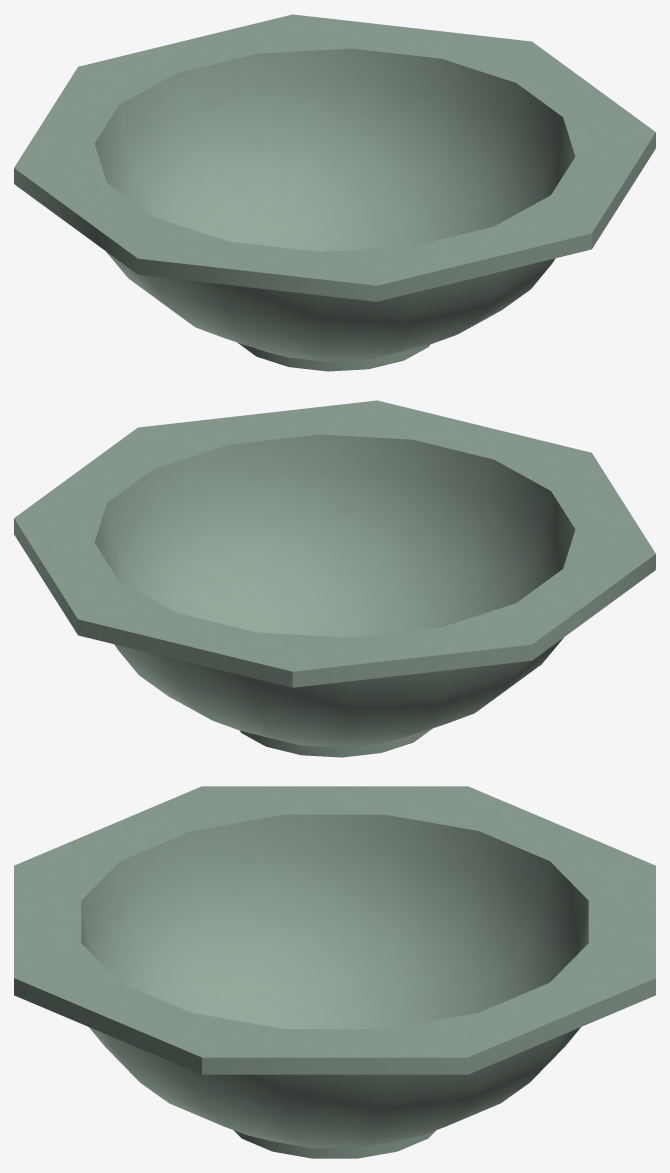
3 renders of one model, top to bottom at view 1: azimuth 30°, elevation 25°; view 2: azimuth 150°, elevation 25°; view 3: azimuth 270°, elevation 25°, orthographic. The views are drawn at different scales.
Parts seen in each view (by area): view 1: SM_研钵001; view 2: SM_研钵001; view 3: SM_研钵001.
Boxes of the visible parts, x1,y1,x2,y2 form: SM_研钵001: [14, 14, 655, 371]; SM_研钵001: [14, 400, 655, 757]; SM_研钵001: [14, 786, 655, 1158].
Bounding box in the file's own units: 0.133 × 0.0435 × 0.133.
